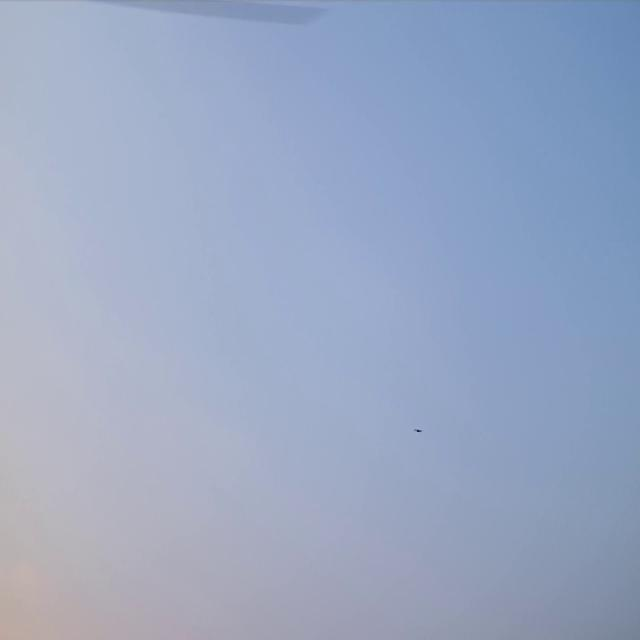UAV: (414, 428, 423, 433)
